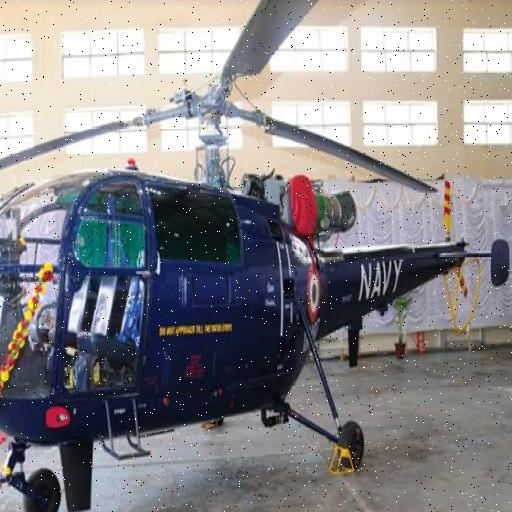helicopter: (1, 23, 508, 512)
